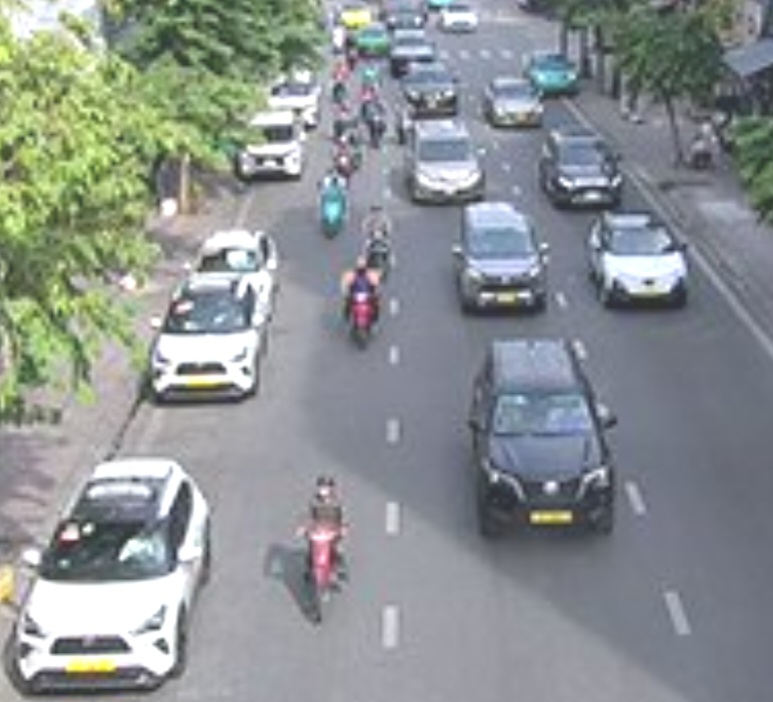car: (15, 455, 210, 693), (460, 336, 621, 539), (147, 272, 259, 405), (459, 201, 549, 316), (585, 212, 689, 308), (541, 126, 625, 207), (405, 121, 486, 204), (239, 114, 305, 180), (403, 64, 461, 116), (487, 77, 546, 128), (529, 50, 579, 95)
